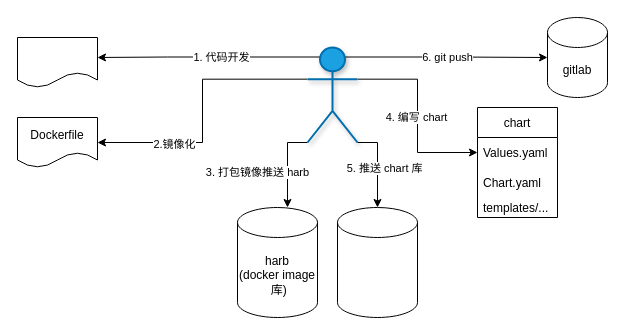
This 625x335 diagram has some shape labels left out. The centre of each missing label's shape, as x and y in pixels:
"chartmuseum (chart 库)" belongs at pixel 377 262.
"source code" belongs at pixel 57 62.
